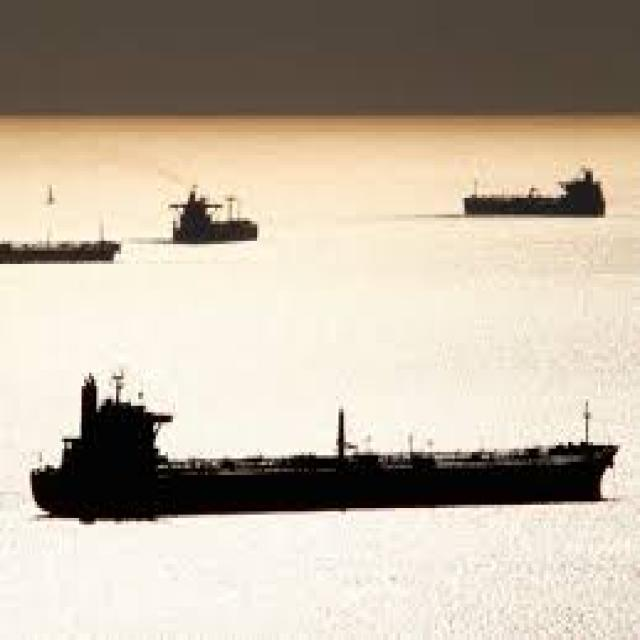fishing boat: (25, 362, 620, 520), (3, 182, 115, 258), (460, 162, 609, 219), (174, 175, 264, 247)
